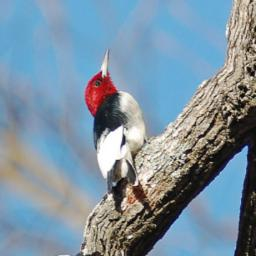Woodpecker: (54, 41, 180, 209)
